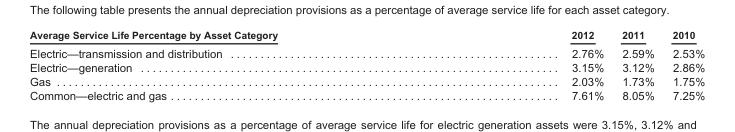table: (29, 28, 704, 101)
table column: (29, 28, 423, 101), (423, 28, 612, 101), (612, 28, 662, 101), (662, 28, 704, 101)
table column header: (29, 28, 704, 43)
table row: (29, 43, 704, 60), (29, 28, 704, 43), (29, 60, 704, 74), (29, 74, 704, 88), (29, 88, 704, 101)
